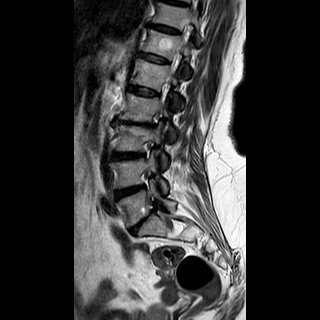RFS0: (151, 76, 176, 108), (136, 134, 158, 165), (136, 166, 157, 195)
